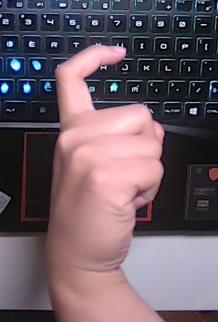anticlockwise: (42, 39, 169, 263)
